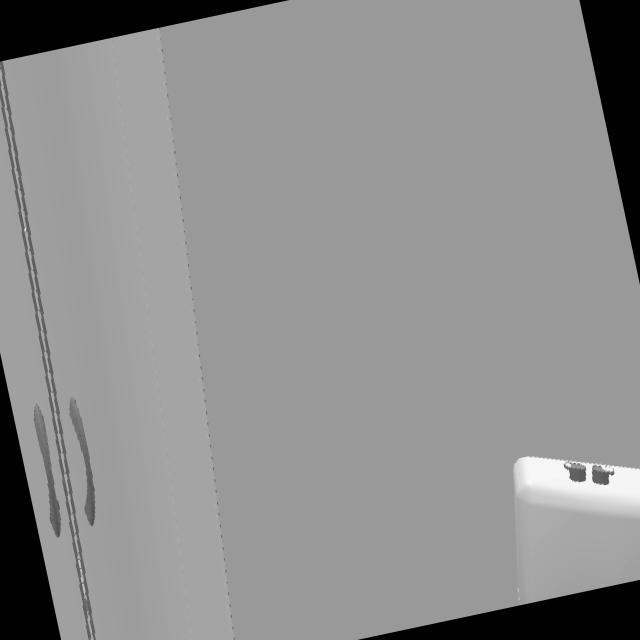shower: (0, 27, 244, 640)
toilet: (512, 457, 640, 605)
